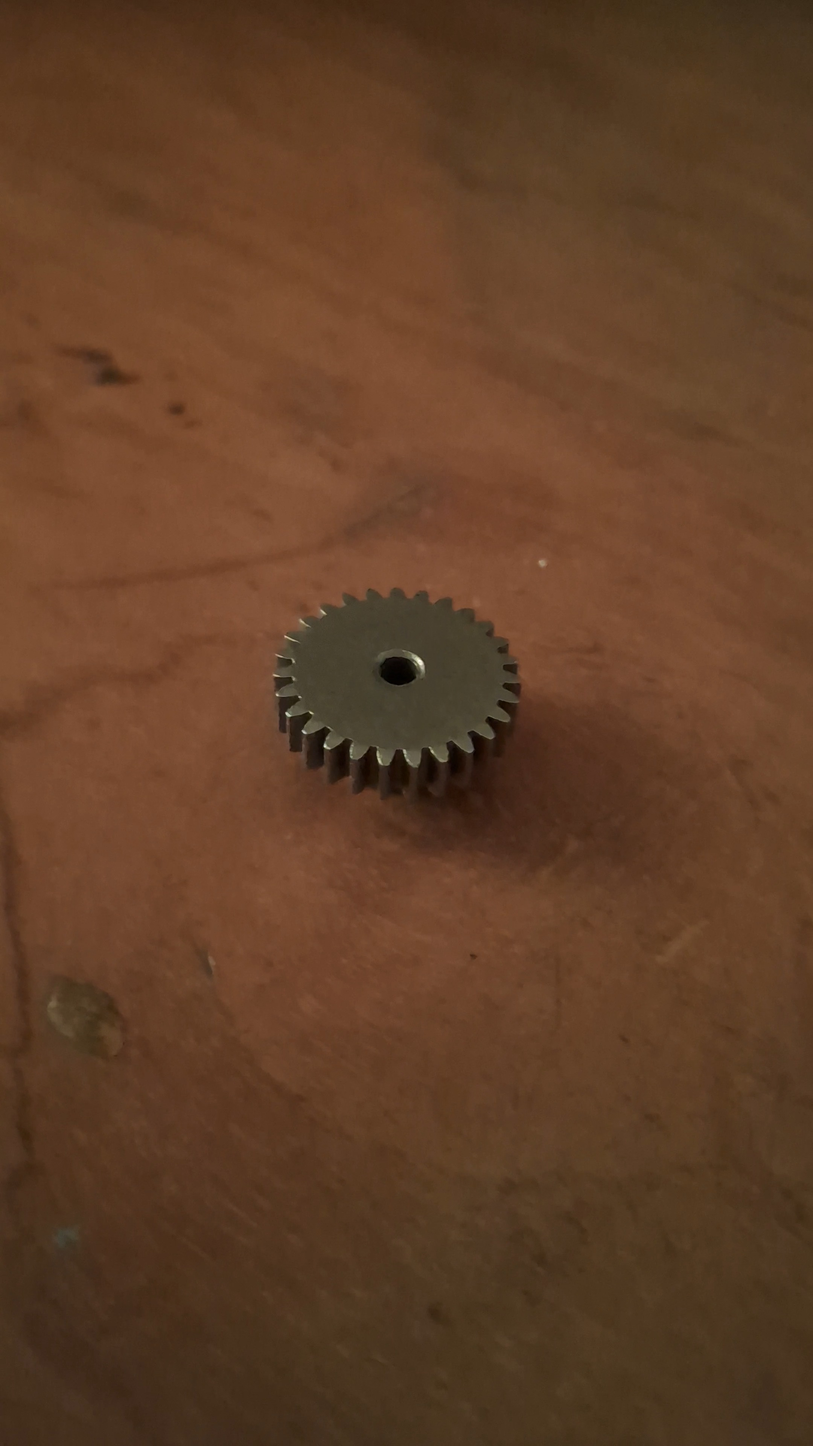spur gear: (274, 589, 519, 796)
